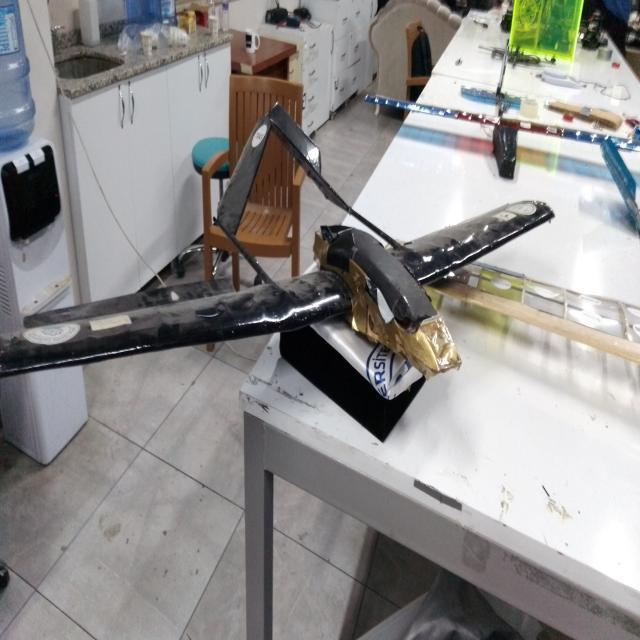UAV: (50, 119, 640, 497)
